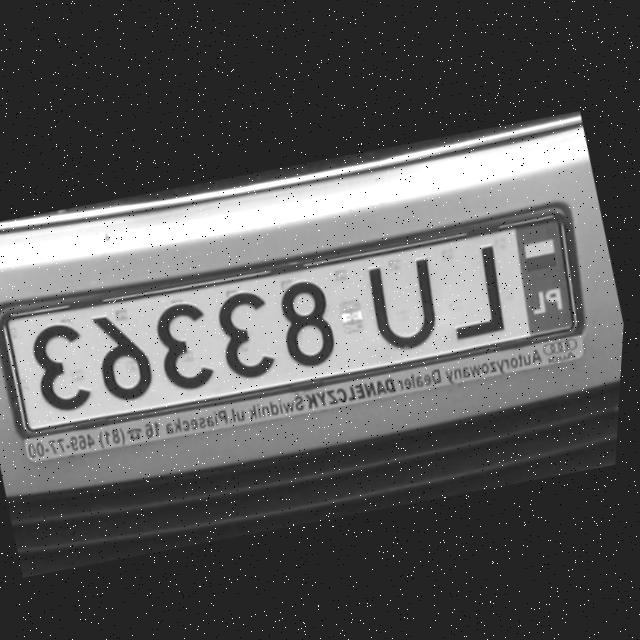license-plates: (4, 218, 575, 432)
